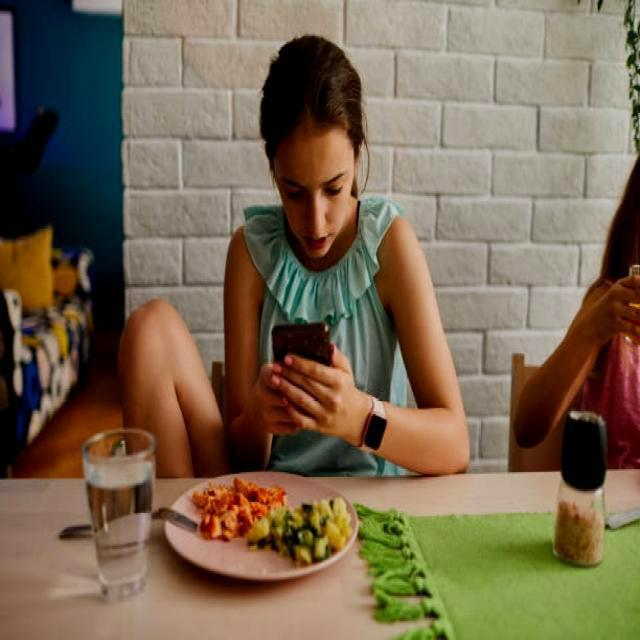Phone use: (225, 27, 472, 477)
